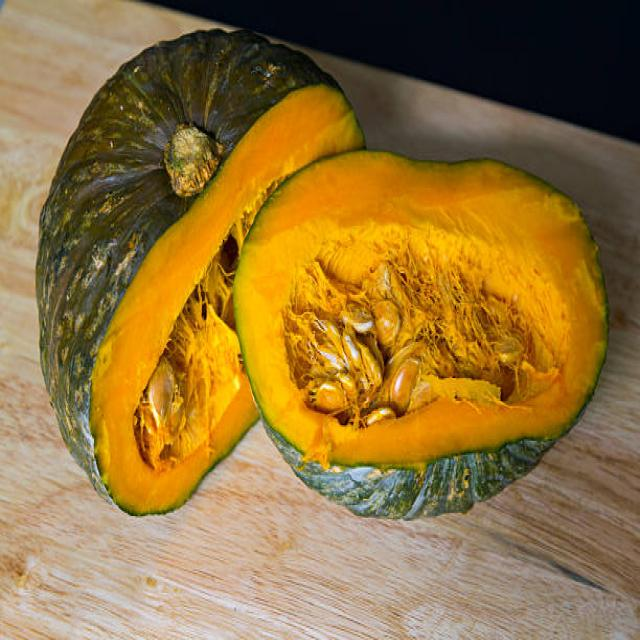pumpkin: (248, 154, 612, 526), (33, 27, 249, 506)
